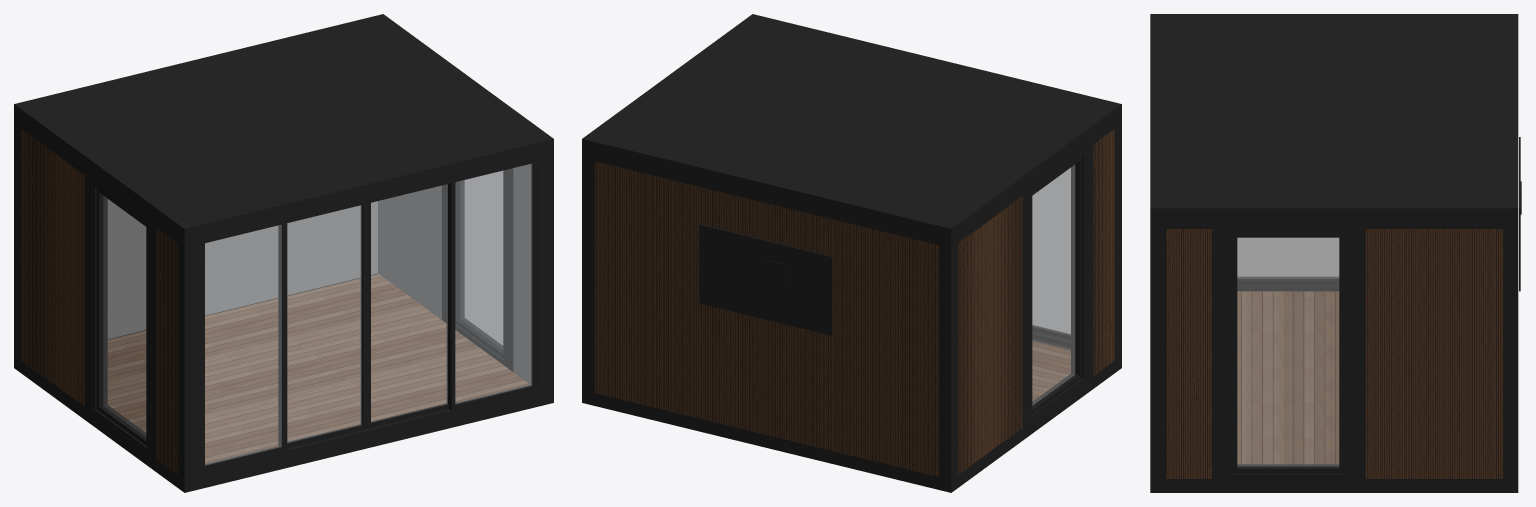
Rendered from Pod.glb.
3 views of the same model, side by side, from view 1: azimuth 30°, elevation 25°; view 2: azimuth 150°, elevation 25°; view 3: azimuth 270°, elevation 25° (orthographic). The views are drawn at different scales.
Parts seen in each view (by area): view 1: Frame (×28), Geom3D (×3), deck, Interiorwall (×3), Exteriorwall (×2), Geom3D_ (×3); view 2: Frame (×12), Exteriorwall (×3), Geom3D_ (×2), Geom3D, deck; view 3: Frame (×10), Exteriorwall (×2), Geom3D_ (×3), deck.
Part boxes in pixels (x1,y1,x2,y2): Frame (×28): (14,14,553,492); Geom3D (×3): (205,163,532,465); deck: (107,274,529,463); Interiorwall (×3): (107,164,530,384); Exteriorwall (×2): (21,129,177,474); Geom3D_ (×3): (92,171,502,453); Frame (×12): (582,14,1121,492); Exteriorwall (×3): (594,129,1114,476); Geom3D_ (×2): (1029,150,1085,421); Geom3D: (1033,168,1070,334); deck: (1032,340,1070,401); Frame (×10): (1150,14,1518,492); Exteriorwall (×2): (1165,229,1502,478); Geom3D_ (×3): (1237,237,1339,466); deck: (1237,291,1339,464).
Size of the model in its own units: 116 by 79.35 by 93.76.
Materials: 79 (31 with a texture image).
